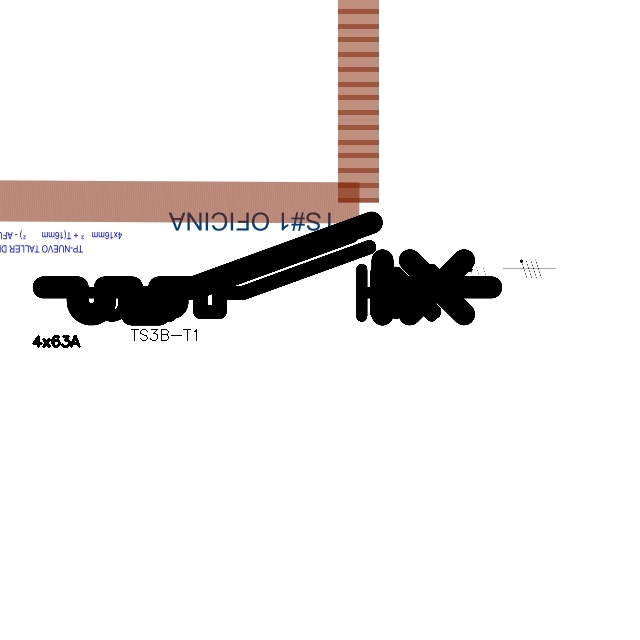interruptor_termomagnetico: (32, 211, 503, 326), (61, 227, 464, 326), (130, 239, 461, 320)
